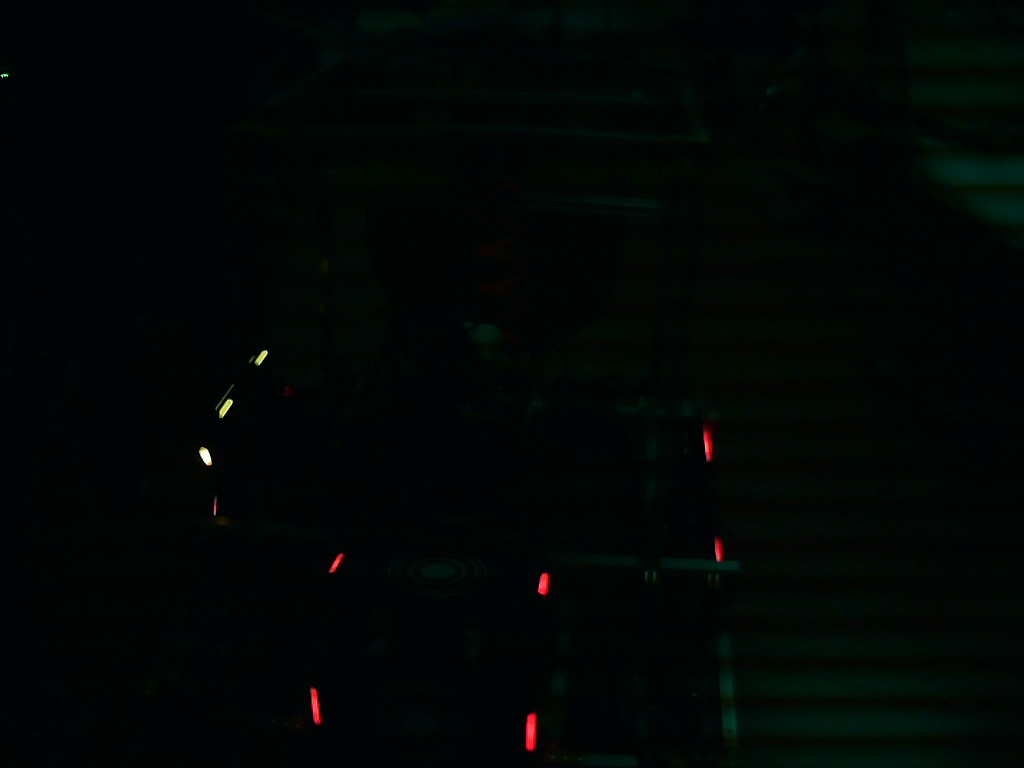lamp: (306, 685, 326, 730), (523, 712, 538, 754)
